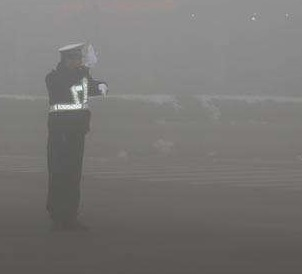person: (42, 40, 109, 224)
